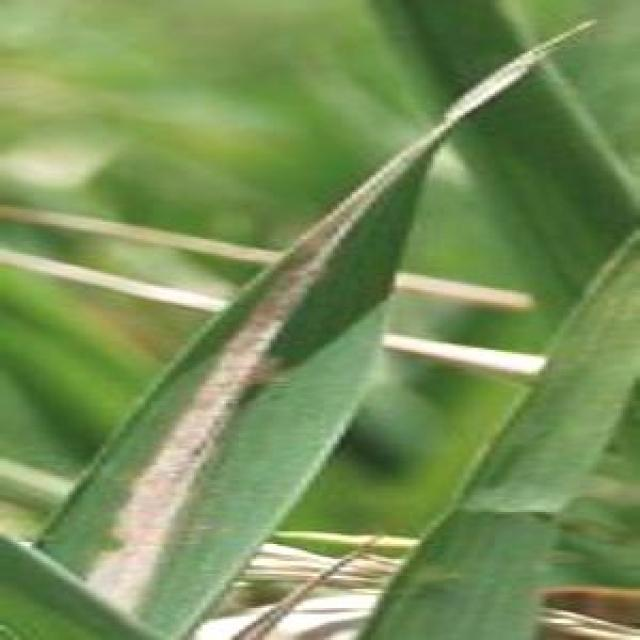Rice_Bacterial_Blight: (78, 300, 276, 614)
